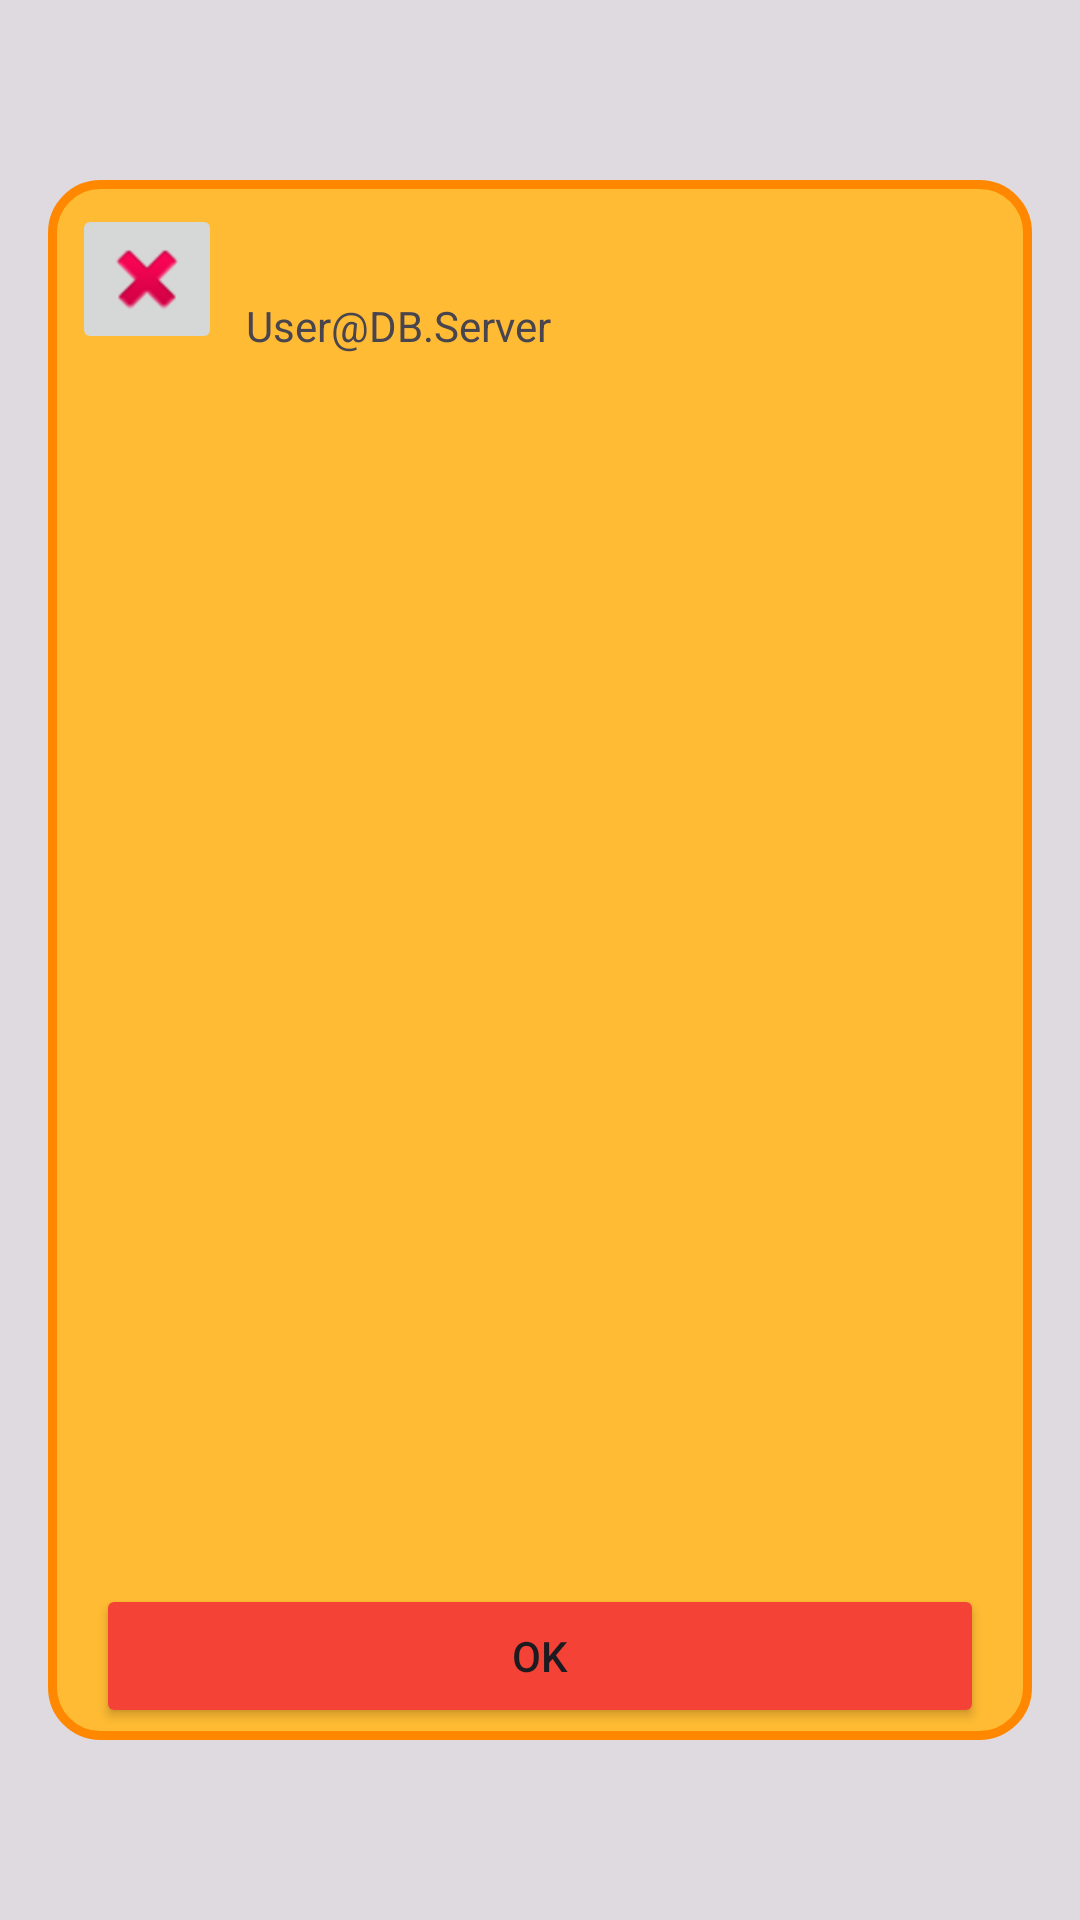

Screen size 1080 x 1920. Icon name, then its box in pixels as (x1, y1, x2, y2):
delete: (84, 222, 210, 336)
